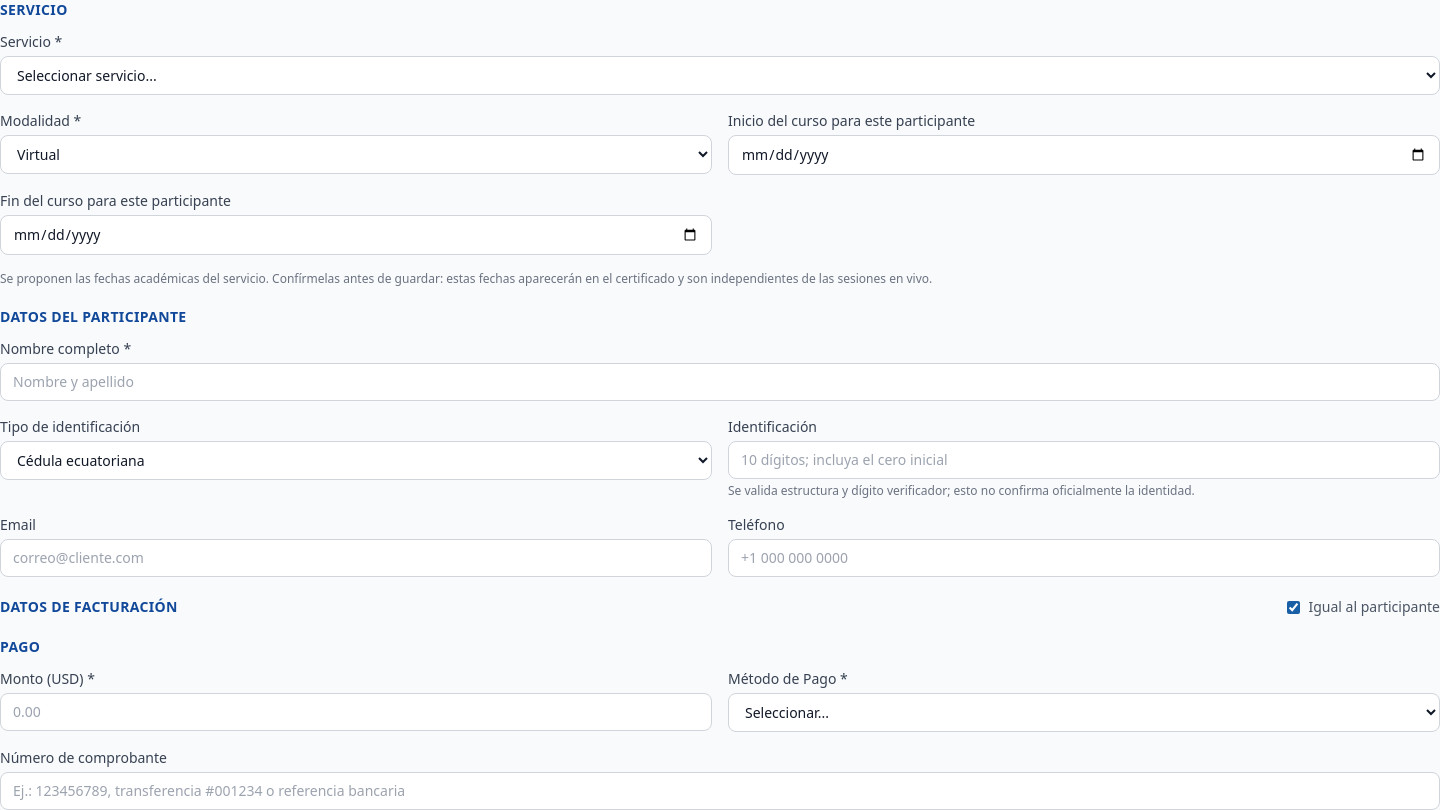
Test: InscripcionesForm — identificación textual › al elegir consumidor final separa la facturación y establece el identificador SRI textual
Click the checkbox labelled "Igual al participante" at (1294, 607), box [1288,600,1300,614]
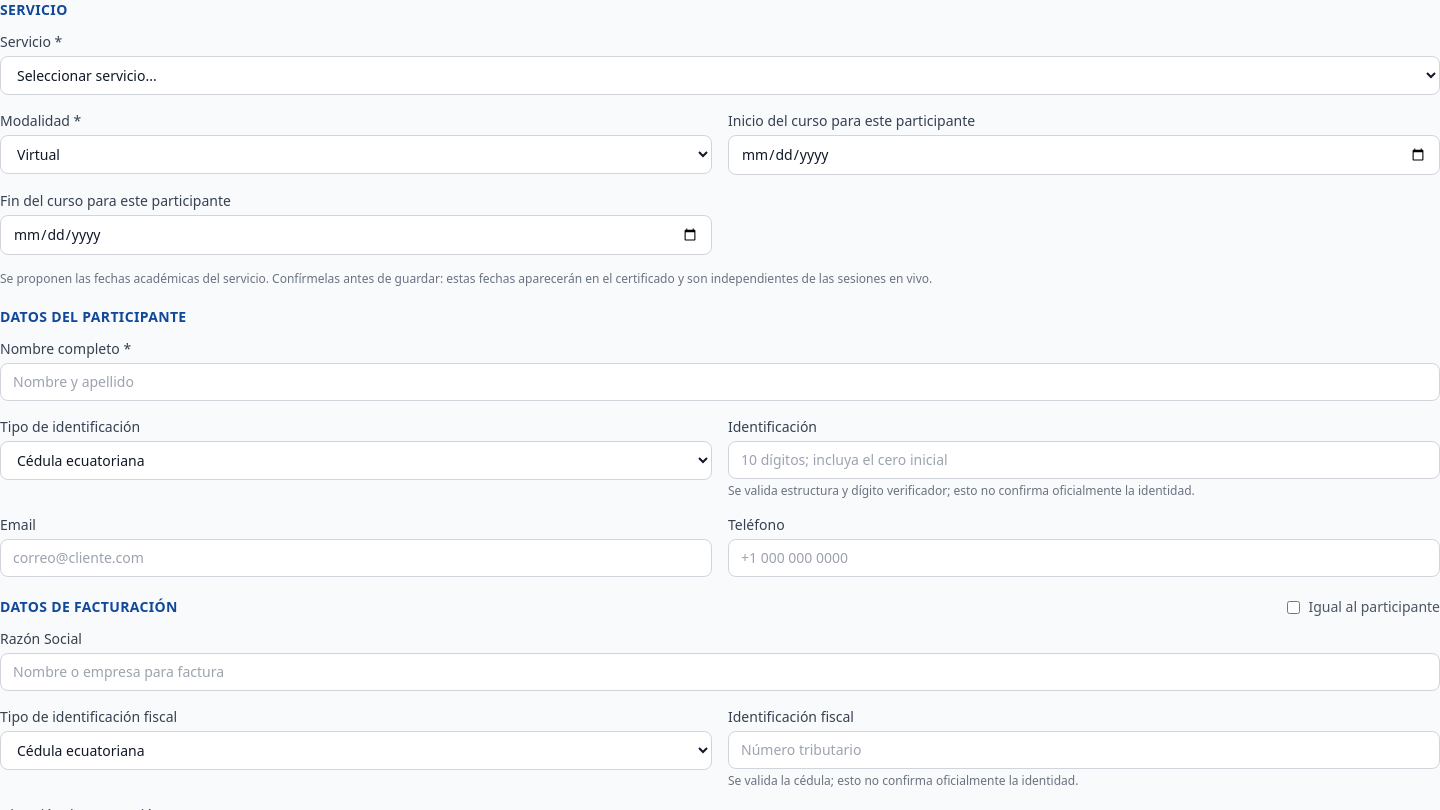
Select "Consumidor final (SRI)" in the dropdown labelled "Tipo de identificación fiscal" at (356, 750), box [0,731,712,770]
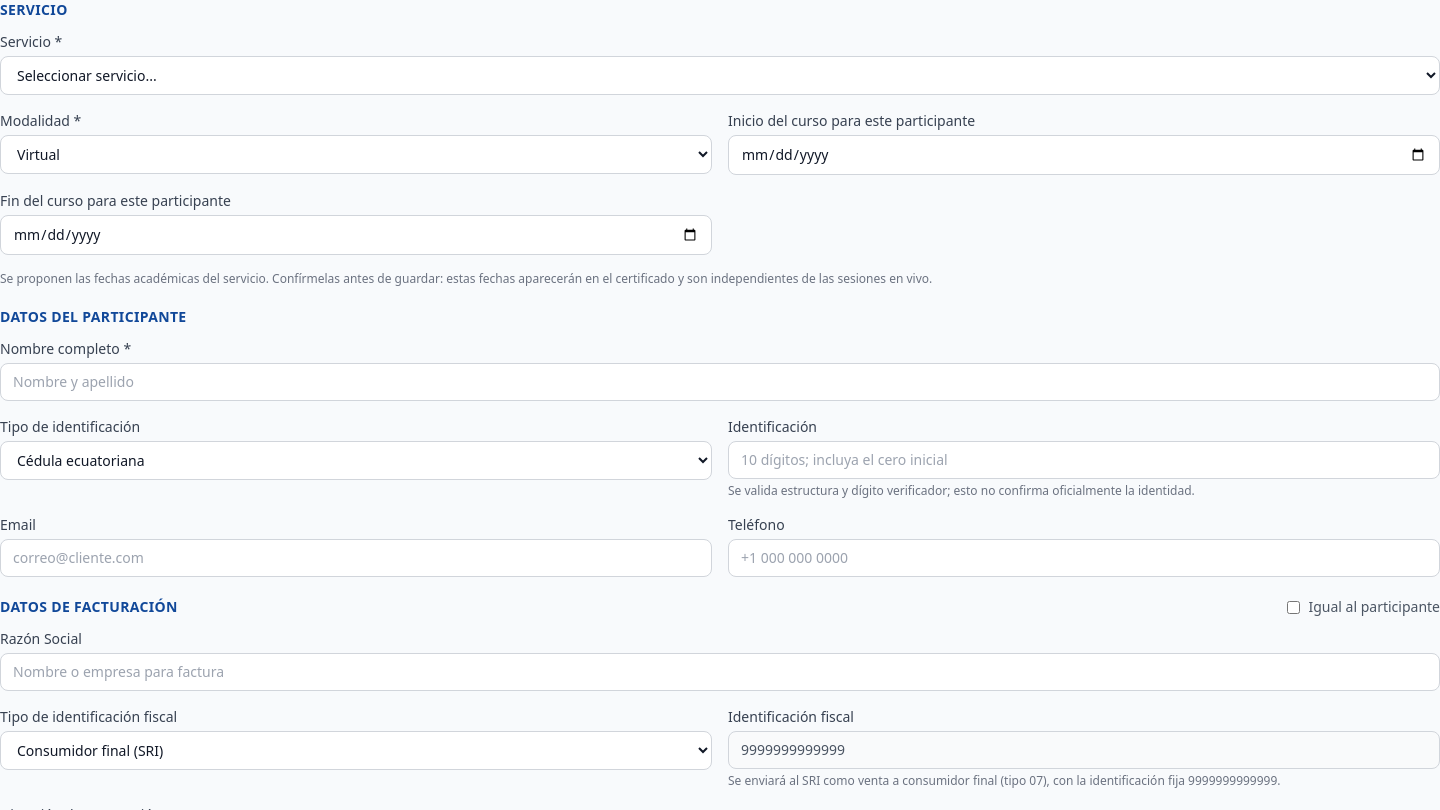
Expected: the field labelled "Identificación fiscal" holds "9999999999999", [728,731,1439,769]
Expected: the text "tipo 07" is shown, [728,772,1280,789]
